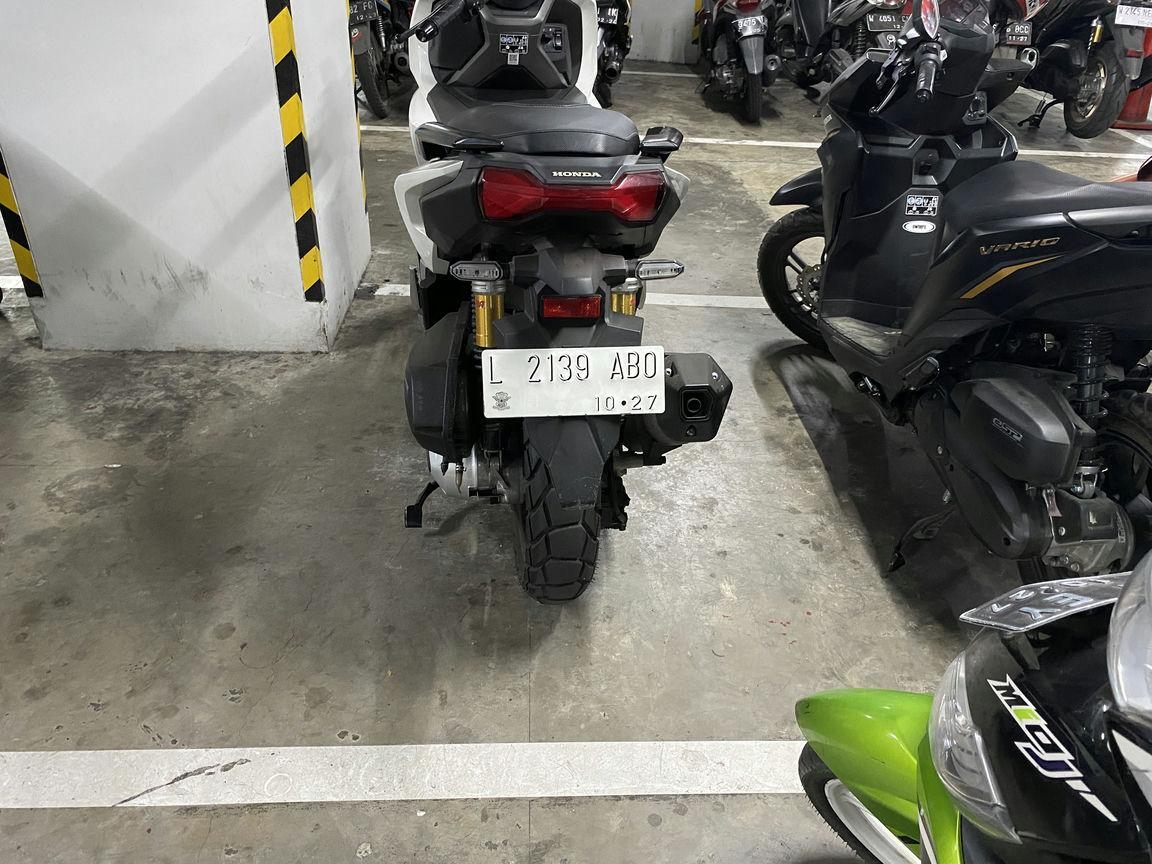plat: (483, 346, 666, 418)
